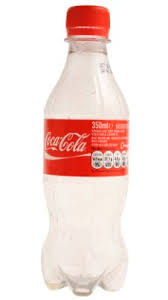HDPE Cap: (66, 6, 110, 28)
HDPE Ring: (66, 29, 110, 36)
PET Bottle: (42, 5, 128, 296)
PVC Label: (44, 120, 128, 177)
